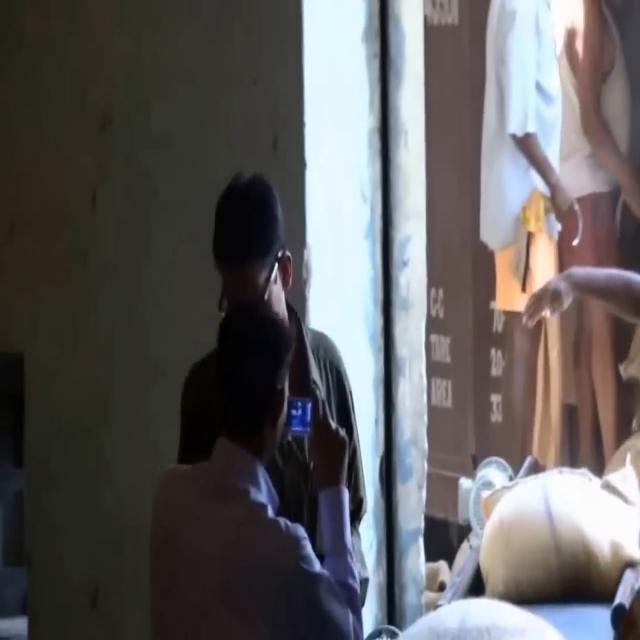gunny_bag: (482, 468, 635, 603)
